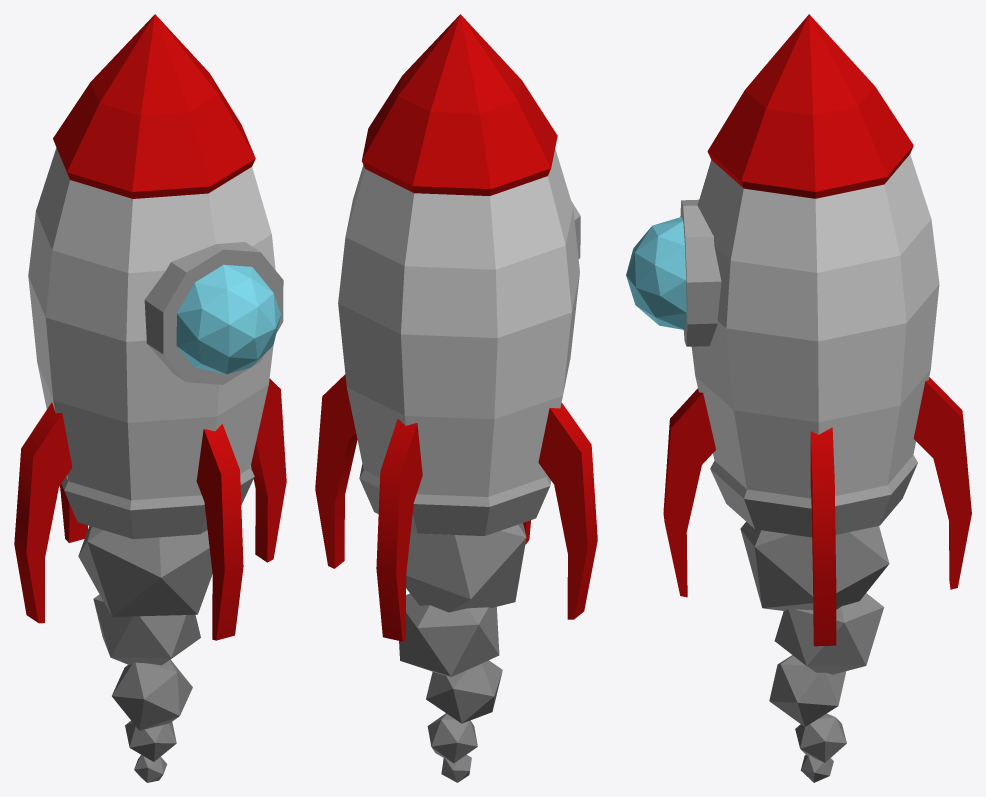
Rendered from rocket.glb.
3 views of the same model, side by side, from view 1: azimuth 30°, elevation 25°; view 2: azimuth 150°, elevation 25°; view 3: azimuth 270°, elevation 25° (orthographic).
Parts seen in each view (by area): view 1: Rocket Ship 01_Material #27_0, Rocket Ship 01_Material #28_0, Rocket Ship 01_Material #42_0, Rocket Ship 01_Material #29_0, Rocket Ship 01_Material #30_0; view 2: Rocket Ship 01_Material #27_0, Rocket Ship 01_Material #28_0, Rocket Ship 01_Material #42_0, Rocket Ship 01_Material #29_0; view 3: Rocket Ship 01_Material #27_0, Rocket Ship 01_Material #28_0, Rocket Ship 01_Material #42_0, Rocket Ship 01_Material #29_0, Rocket Ship 01_Material #30_0.
Boxes of the visible parts, x1,y1,x2,y2 form: Rocket Ship 01_Material #27_0: (28,148,275,500); Rocket Ship 01_Material #28_0: (14,14,286,640); Rocket Ship 01_Material #42_0: (78,526,212,782); Rocket Ship 01_Material #29_0: (61,242,283,539); Rocket Ship 01_Material #30_0: (176,264,280,374); Rocket Ship 01_Material #27_0: (338,149,579,496); Rocket Ship 01_Material #28_0: (315,14,597,641); Rocket Ship 01_Material #42_0: (399,523,526,782); Rocket Ship 01_Material #29_0: (359,201,580,536); Rocket Ship 01_Material #27_0: (691,154,939,498); Rocket Ship 01_Material #28_0: (663,14,971,646); Rocket Ship 01_Material #42_0: (740,521,889,782); Rocket Ship 01_Material #29_0: (680,199,917,537); Rocket Ship 01_Material #30_0: (626,217,686,330).
Size of the model in its own units: 0.6935 by 1.9 by 0.7777.
